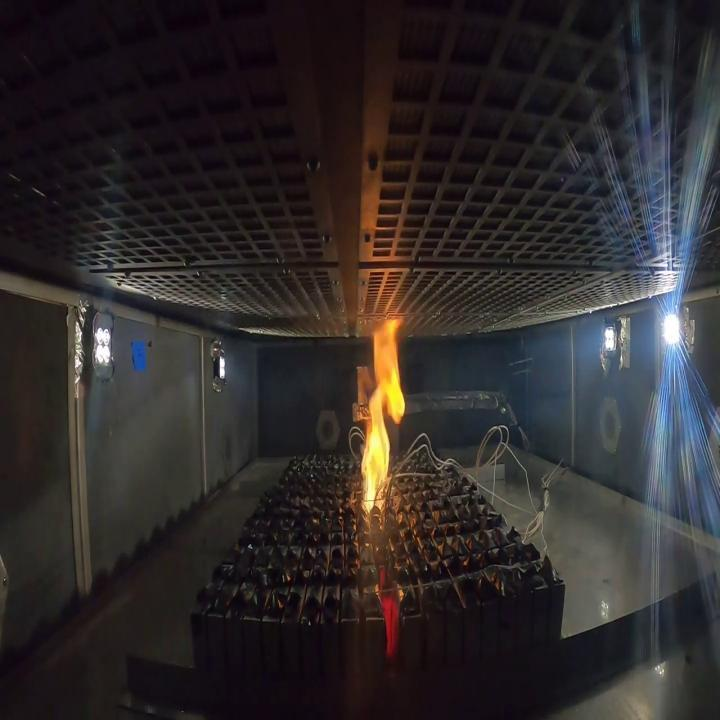fire: (358, 316, 408, 511)
